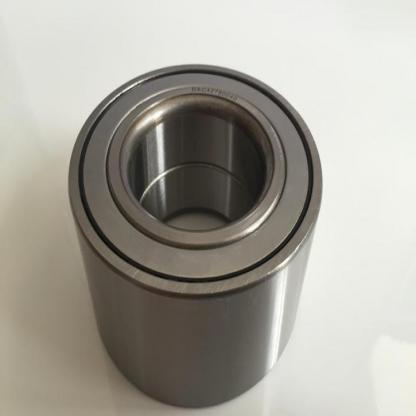FOD: (65, 56, 325, 415)
